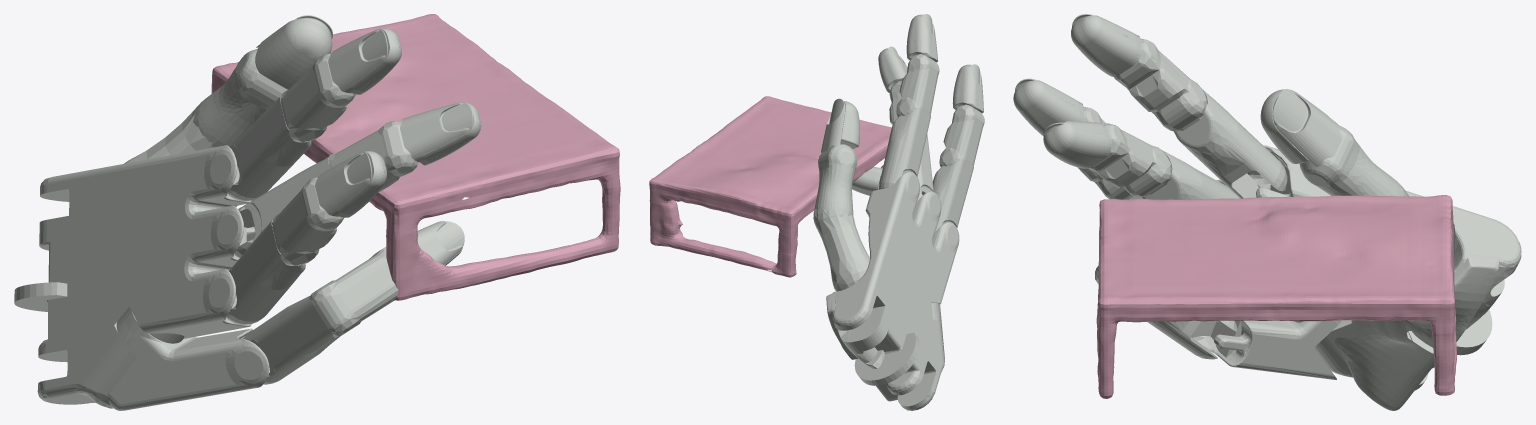
The picture shows the model from 3 angles, left to right: view 1: azimuth 30°, elevation 25°; view 2: azimuth 150°, elevation 25°; view 3: azimuth 270°, elevation 25°; orthographic projection. The views are drawn at different scales.
Parts seen in each view (by area): view 1: hand, world; view 2: hand, world; view 3: hand, world.
Boxes of the visible parts, x1,y1,x2,y2 form: hand: (14,15,481,410); world: (211,14,620,300); hand: (813,14,984,410); world: (649,96,891,277); hand: (1013,14,1521,410); world: (1096,195,1456,398).
Size of the model in its own units: 0.1713 by 0.1803 by 0.1864.
